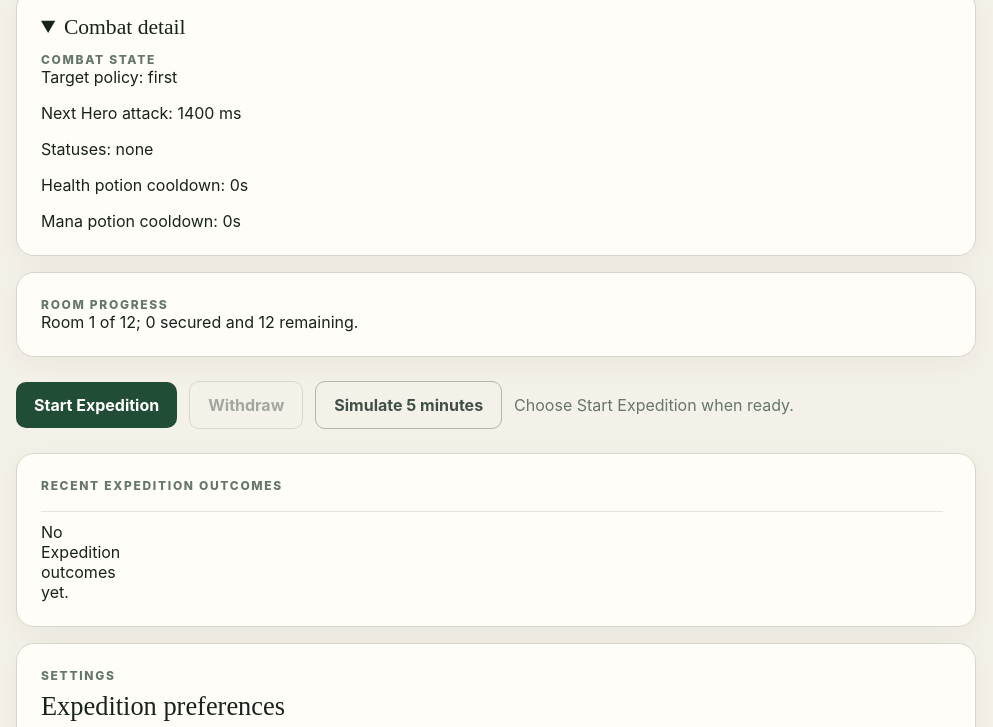
playable browser shell › lets the player inspect and equip a found Item between Expeditions
(page scrolled)
Click the button "Simulate 5 minutes" at (409, 405), box 315,381 -> 502,429
(page scrolled)
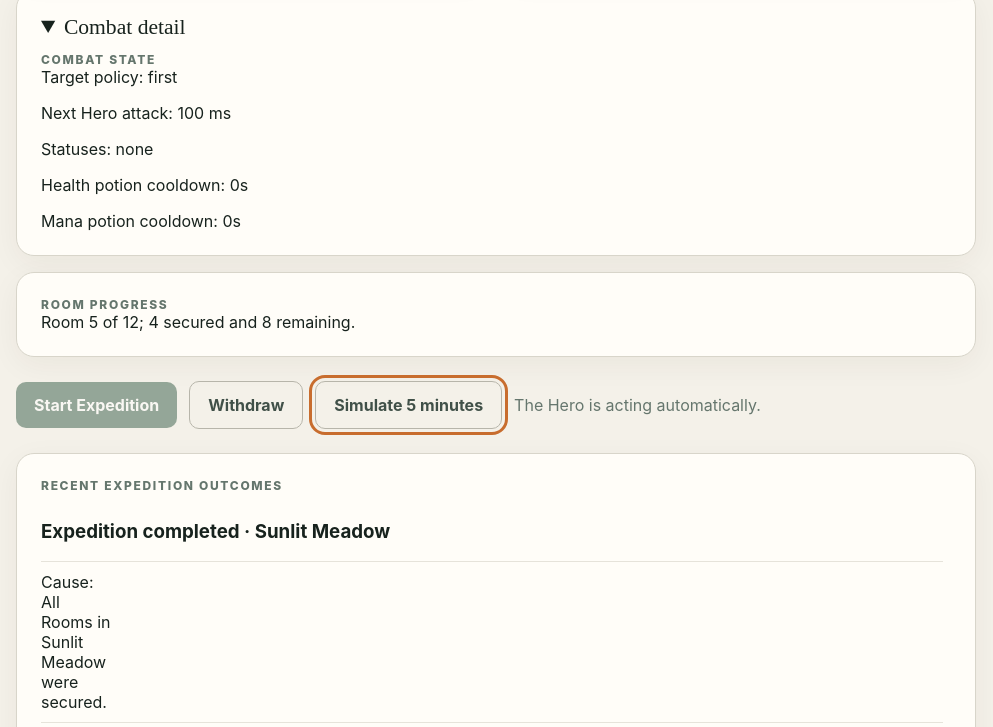
Click the button "Withdraw" at (246, 405), box 189,381 -> 303,429
(page scrolled)
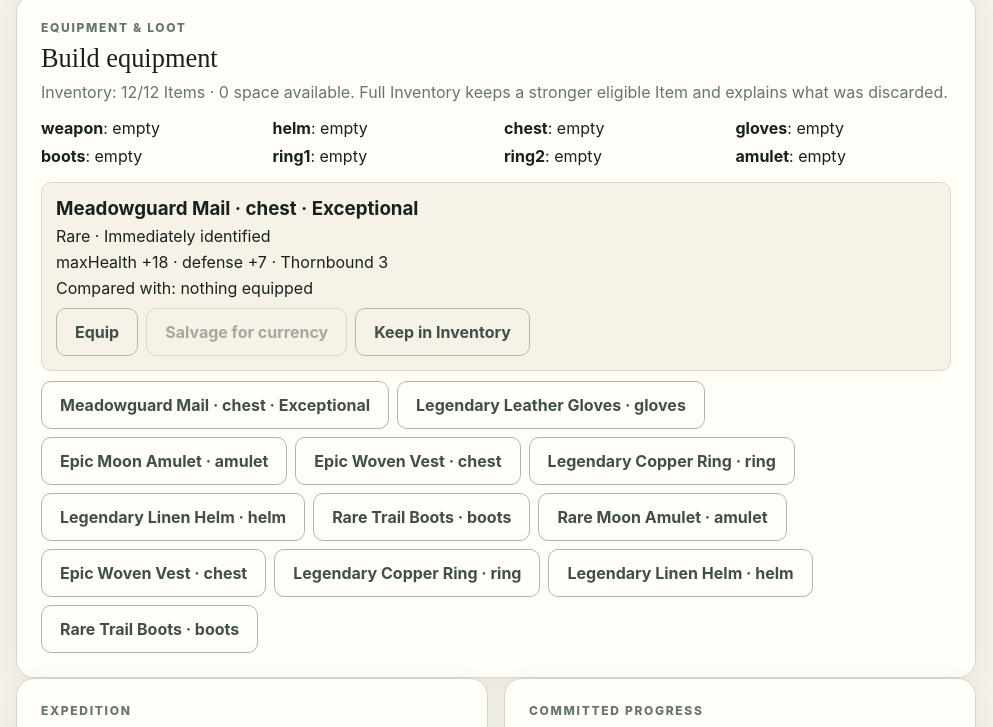
Click the button "Meadowguard Mail · chest · Exceptional" at (215, 405), box 41,381 -> 389,429
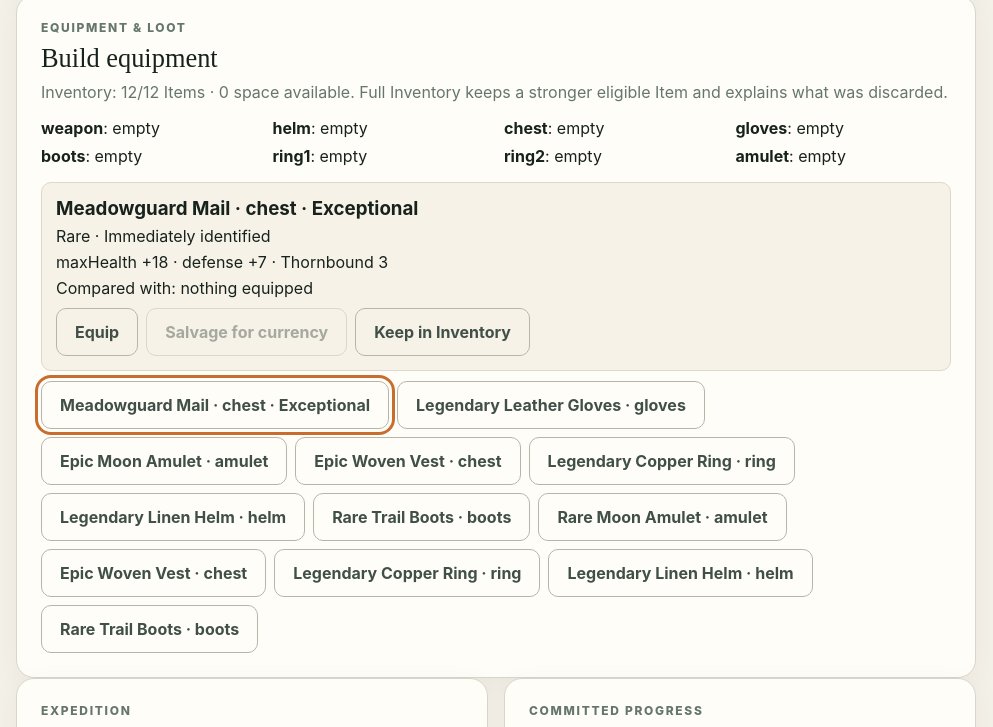
Now the heading "Meadowguard Mail · chest · Exceptional" is shown, box 56,197 -> 418,220
Now the text "Compared with: nothing equipped" is shown, box 56,278 -> 313,298
Click the button "Equip" at (97, 332), box 56,308 -> 138,356
(page scrolled)
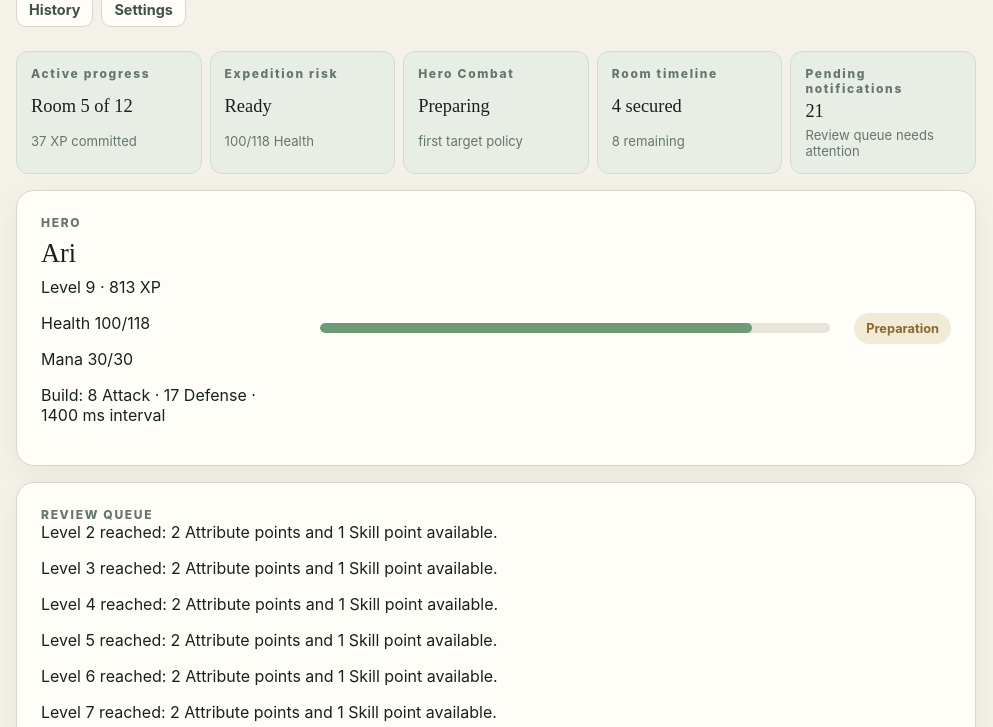
Now the text "Build: 8 Attack · 17 Defense · 1400 ms interval" is shown, box 41,385 -> 256,425
